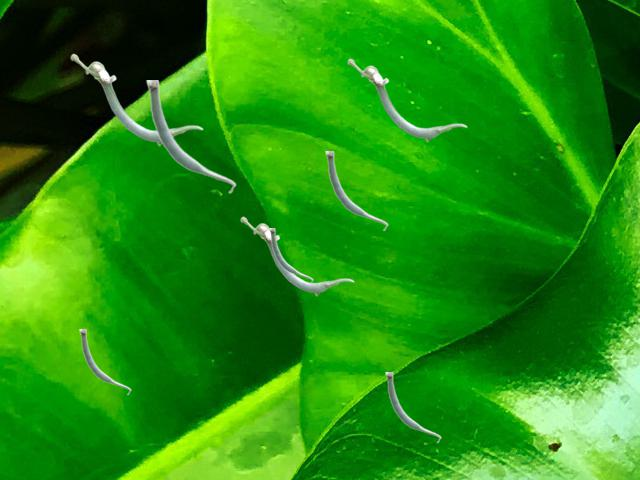french_bean: (70, 53, 202, 145), (146, 80, 235, 193), (347, 58, 466, 141), (240, 216, 353, 295), (325, 151, 387, 230), (385, 372, 440, 442), (79, 329, 130, 394), (269, 228, 312, 283)
